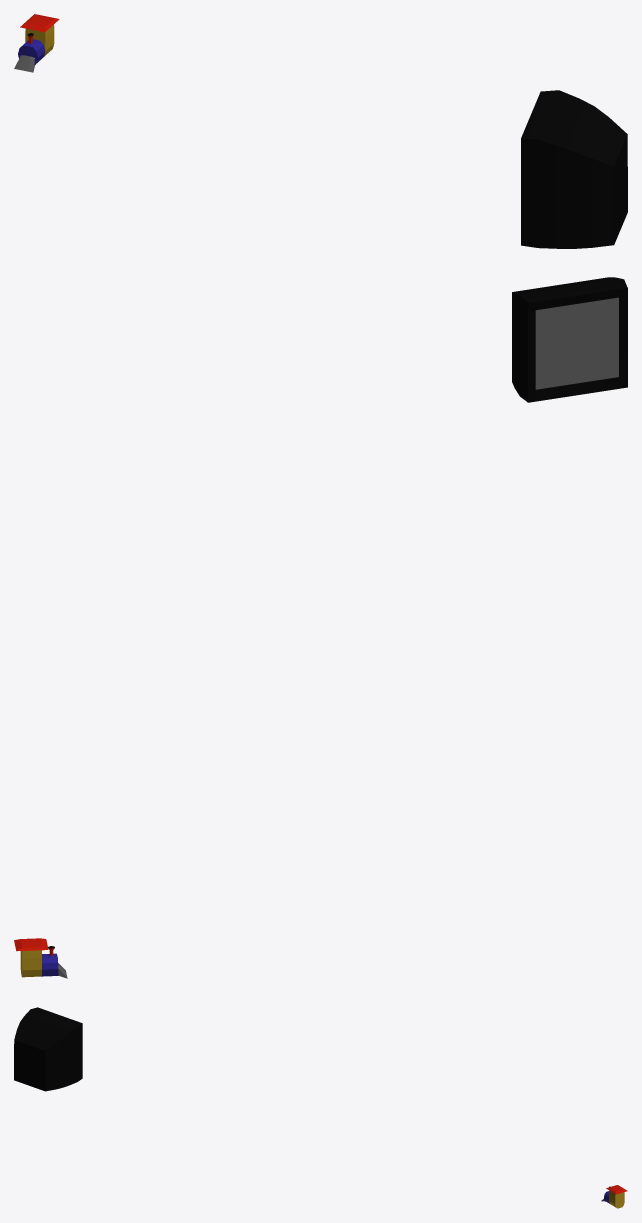
The model's file is TesteCoisinhas.fbx.
3 renders of one model, top to bottom at view 1: azimuth 30°, elevation 25°; view 2: azimuth 150°, elevation 25°; view 3: azimuth 270°, elevation 25°, orthographic. The views are drawn at different scales.
Visible parts, largest first — view 1: Tv, Trem; view 2: Tv, Trem; view 3: Tv, Trem.
Part boxes in pixels (left/top/right/bottom): Tv: left=521, top=90, right=627, bottom=248; Trem: left=14, top=14, right=59, bottom=72; Tv: left=512, top=277, right=627, bottom=402; Trem: left=14, top=938, right=67, bottom=978; Tv: left=14, top=1007, right=82, bottom=1091; Trem: left=601, top=1185, right=627, bottom=1208.
Size of the model in its own units: 2074 by 6025 by 18612.
